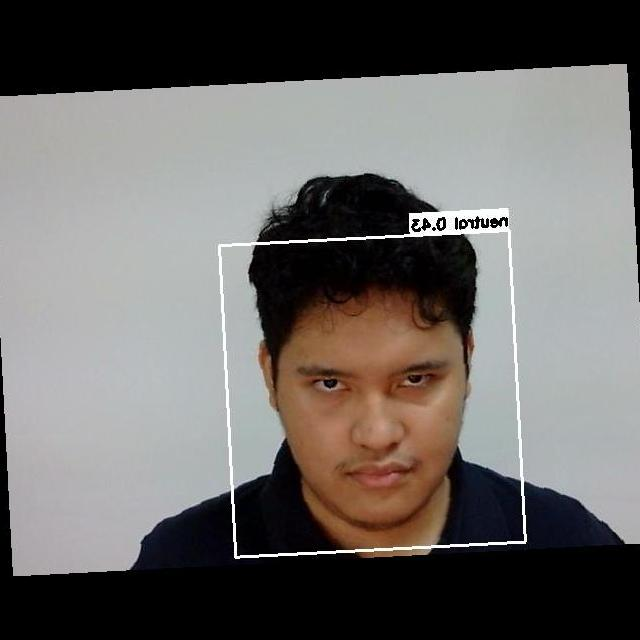Angry: (285, 334, 459, 503)
